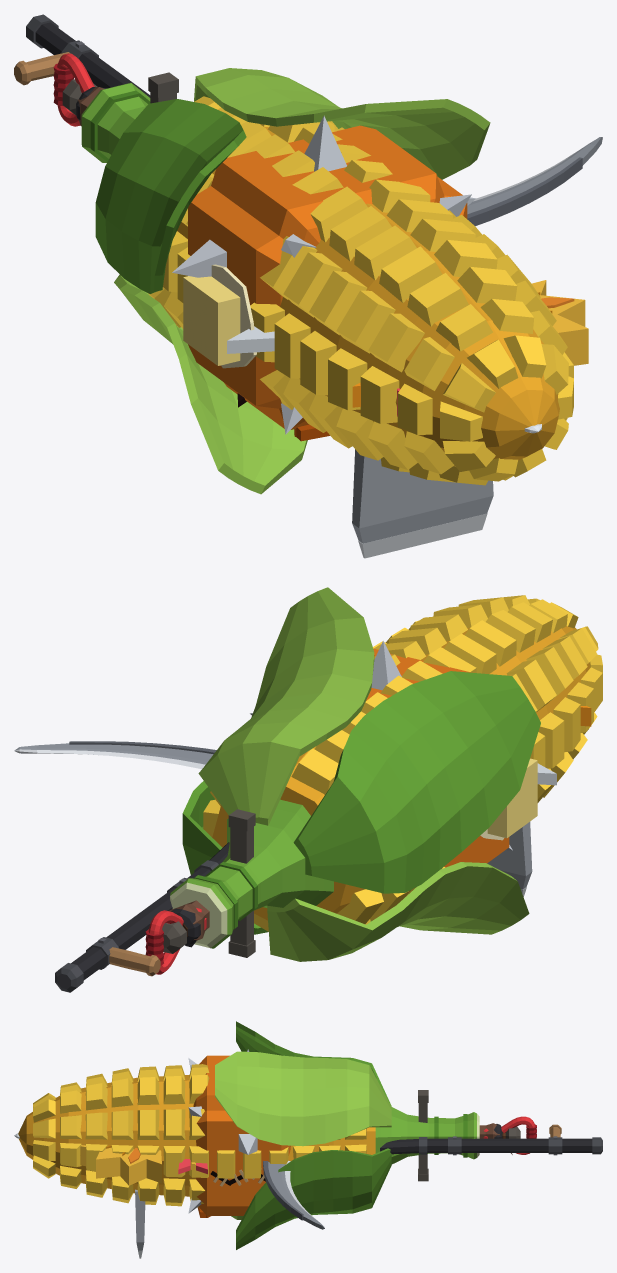
Rendered from w1_weapons.fbx.
3 views of the same model, one above another, from view 1: azimuth 30°, elevation 25°; view 2: azimuth 150°, elevation 25°; view 3: azimuth 270°, elevation 25° (orthographic). The views are drawn at different scales.
Visible parts, largest first — view 1: CornCob.Kernels, CornCob.HuskLight, PumpkinMace.Head, CornCob.HuskDark, CornCob.Cob, CrowbaneHoe.Blade, CornCob.Butter, PumpkinMace.Spikes, CornCob.Stalk, CrowbaneHoe.Edge, WeathervaneSpear.Gold, Scythe.Snath (+9 smaller); view 2: CornCob.HuskDark, CornCob.HuskLight, CornCob.Kernels, CornCob.Stalk, CornCob.Cob, Scythe.Snath, RustyBlade.Guard, CornCob.Butter, CornCob.CutEnd, PumpkinMace.Head, Scythe.Blade, CrowbaneHoe.Blade (+8 smaller); view 3: CornCob.Kernels, CornCob.HuskLight, CornCob.HuskDark, CornCob.Cob, PumpkinMace.Head, Scythe.Snath, CornCob.Stalk, WeathervaneSpear.Gold, Scythe.Iron, Scythe.Blade, PumpkinMace.Spikes, RustyBlade.Guard (+2 smaller).
Part boxes in pixels (x1,y1,x2,y2): CornCob.Kernels: (148, 96, 573, 485); CornCob.HuskLight: (114, 68, 490, 494); PumpkinMace.Head: (188, 125, 467, 429); CornCob.HuskDark: (95, 99, 246, 293); CornCob.Cob: (177, 126, 559, 466); CrowbaneHoe.Blade: (352, 449, 493, 543); CornCob.Butter: (183, 276, 240, 365); PumpkinMace.Spikes: (172, 115, 475, 434); CornCob.Stalk: (81, 83, 150, 162); CrowbaneHoe.Edge: (358, 513, 487, 558); WeathervaneSpear.Gold: (532, 280, 588, 365); Scythe.Snath: (35, 22, 150, 97); CornCob.HuskDark: (182, 671, 540, 934); CornCob.HuskLight: (198, 587, 529, 961); CornCob.Kernels: (203, 595, 602, 931); CornCob.Stalk: (170, 799, 333, 948); CornCob.Cob: (212, 626, 589, 920); Scythe.Snath: (71, 842, 229, 980); RustyBlade.Guard: (228, 809, 255, 957); CornCob.Butter: (487, 758, 537, 838); CornCob.CutEnd: (170, 882, 227, 948); PumpkinMace.Head: (366, 648, 509, 867); Scythe.Blade: (14, 743, 213, 764); CrowbaneHoe.Blade: (487, 821, 532, 889); CornCob.Kernels: (33, 1064, 366, 1207); CornCob.HuskLight: (215, 1051, 391, 1219); CornCob.HuskDark: (236, 1021, 391, 1249); CornCob.Cob: (18, 1075, 375, 1196); PumpkinMace.Head: (193, 1055, 290, 1215); Scythe.Snath: (380, 1138, 592, 1154); CornCob.Stalk: (375, 1107, 476, 1164); WeathervaneSpear.Gold: (80, 1145, 161, 1185); Scythe.Iron: (419, 1137, 602, 1154); Scythe.Blade: (268, 1162, 324, 1229); PumpkinMace.Spikes: (188, 1049, 257, 1213); RustyBlade.Guard: (418, 1090, 428, 1181).
Size of the model in its own units: 6.17 by 4.23 by 11.14.
